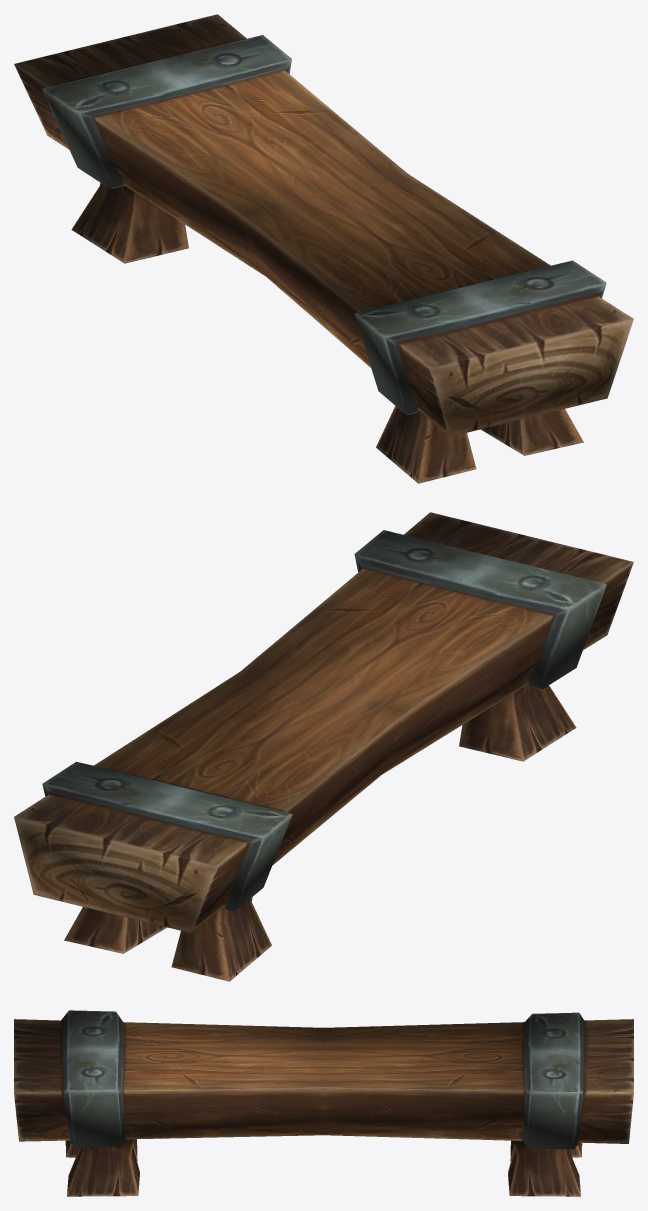
3 views of the same model, one above another, from view 1: azimuth 30°, elevation 25°; view 2: azimuth 150°, elevation 25°; view 3: azimuth 270°, elevation 25° (orthographic). The views are drawn at different scales.
Size of the model in its own units: 0.7985 by 0.5233 by 2.58.
1 material, 1 textured.
